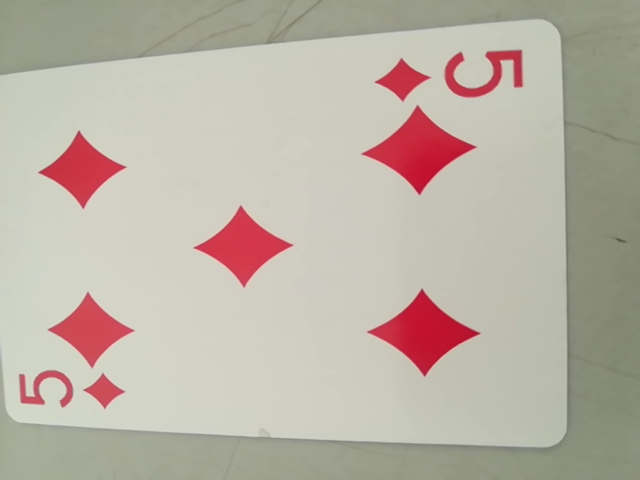fk 5: (375, 41, 525, 109), (11, 362, 129, 421)
